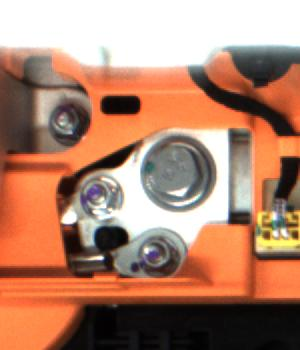nut_b: (133, 131, 224, 214)
